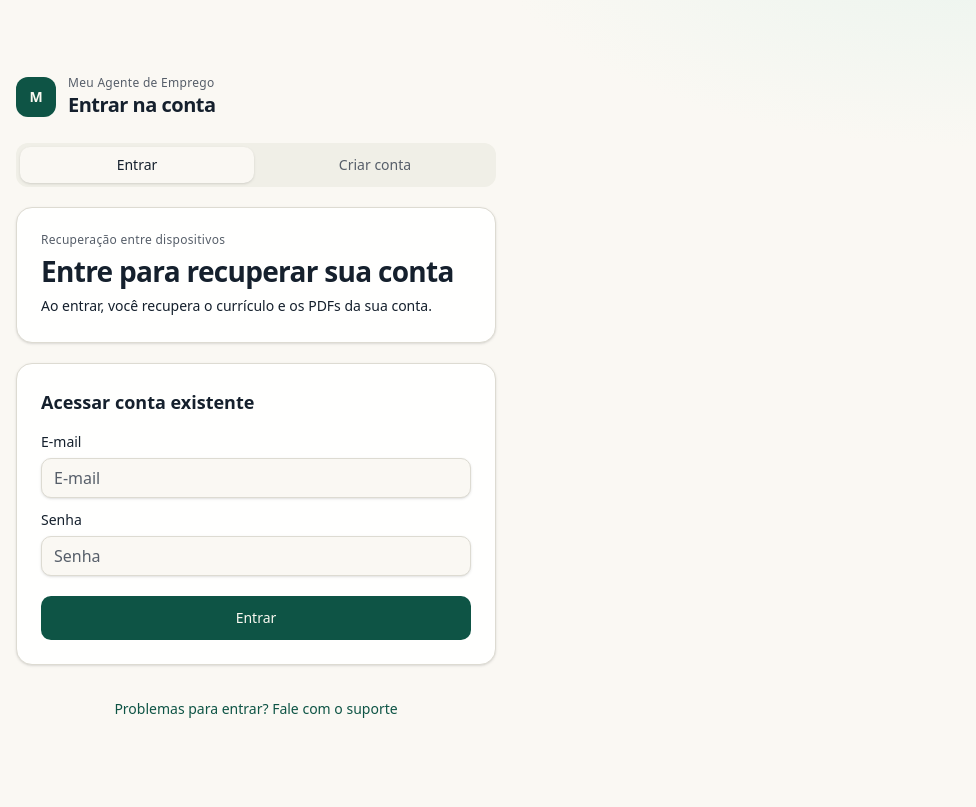
Test: AuthPage signup › nao pre-marca checkboxes e so habilita Criar conta apos os dois aceites
Click the tab with test id "auth-tab-signup".
click(375, 165)  # box [258,147,492,183]
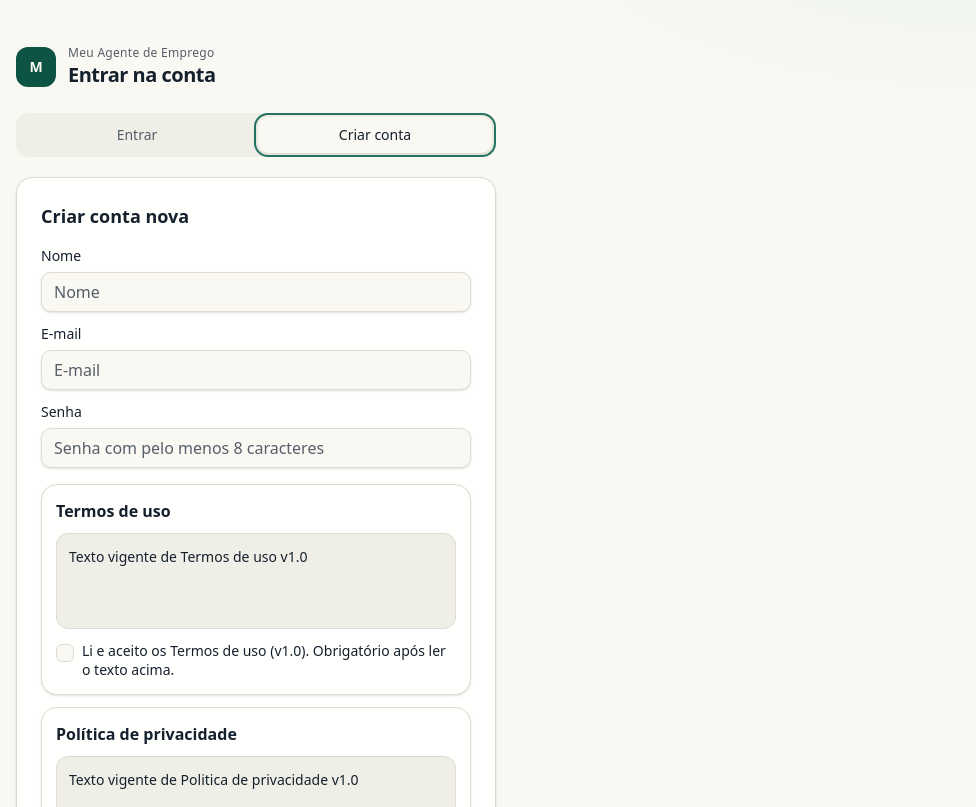
Result: the text with test id "termsDocumentText" reads "Texto vigente de Termos de uso v1.0" at [69,547,308,566]
Result: the text with test id "privacyDocumentText" reads "Texto vigente de Politica de privacidade v1.0" at [69,770,359,788]
Result: the checkbox with test id "termsAcceptCheckbox" is not checked
Click the checkbox with test id "termsAcceptCheckbox".
click(65, 653)  # box [56,644,74,662]
(page scrolled)
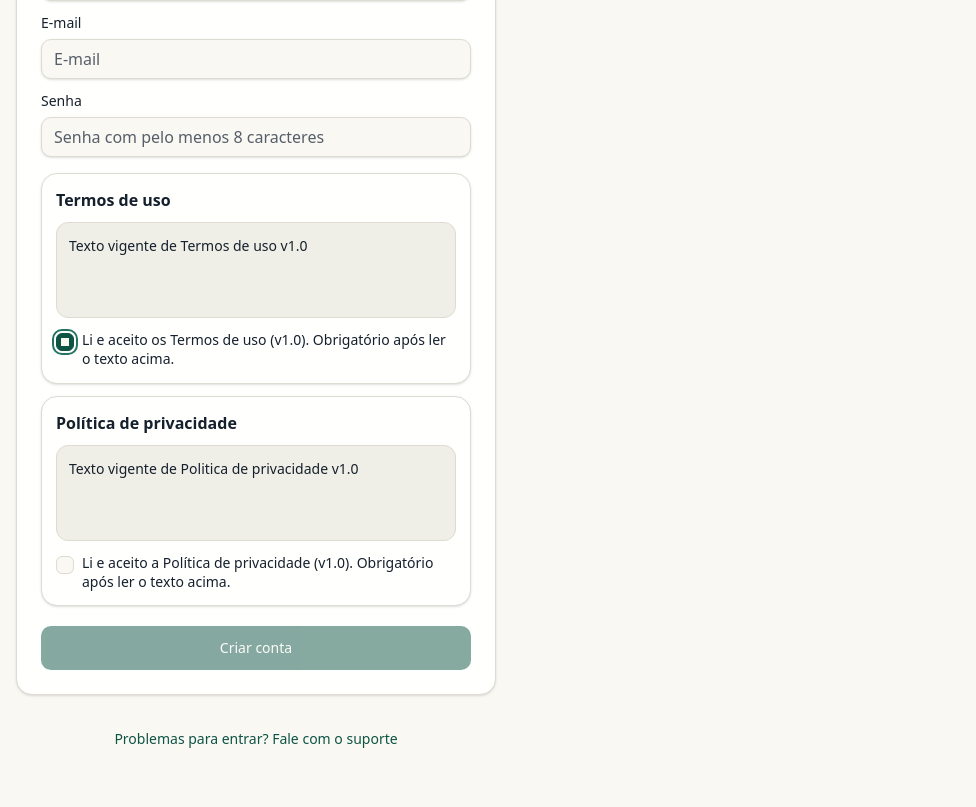
Result: the button with test id "createAccountButton" is disabled at [41,626,471,670]
Click the checkbox with test id "privacyAcceptCheckbox".
click(65, 565)  # box [56,556,74,574]
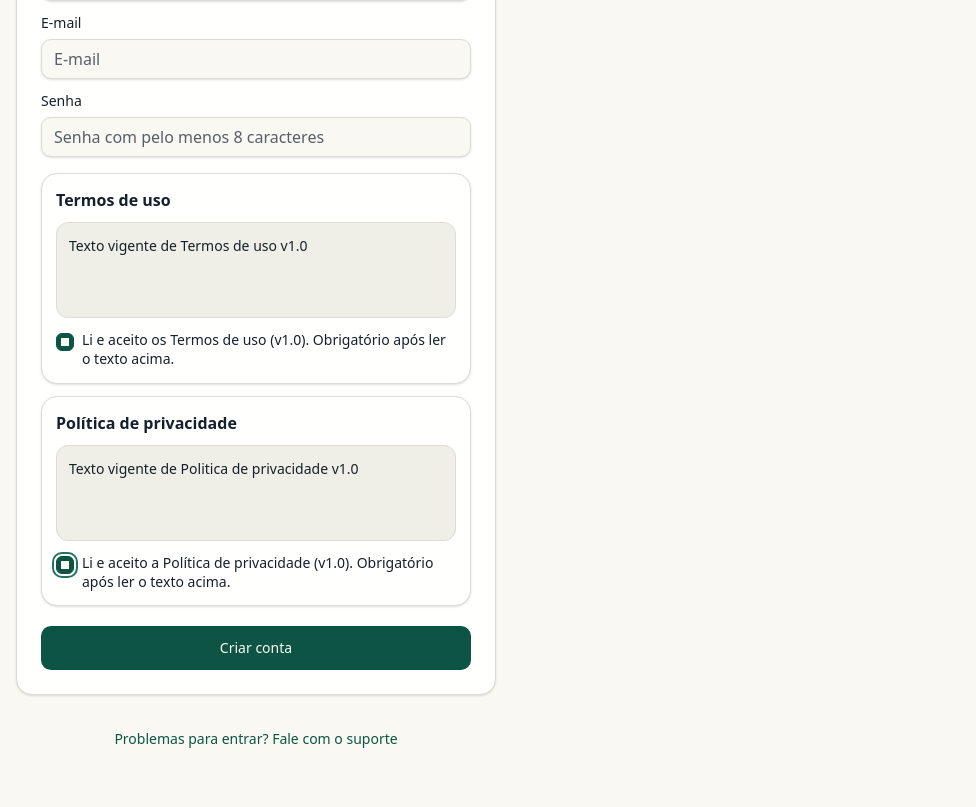
Result: the button with test id "createAccountButton" is enabled at [41,626,471,670]
